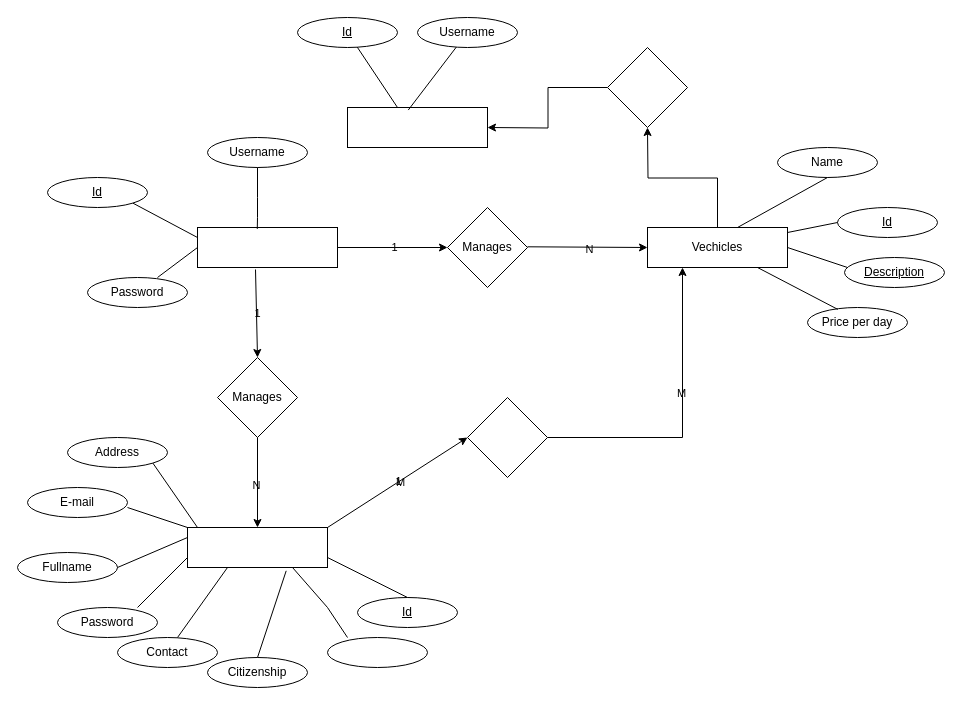
Some shapes in this 962 by 705 pixel diagram are drawn without their labels. The shapes that lost their labels are listed below. From the top down, each one's centre as x and y in pixels, then its label:
At point (647, 87): "Belongs".
At point (417, 127): "Provider".
At point (267, 247): "Admin".
At point (507, 437): "Rent".
At point (257, 547): "Users".
At point (377, 652): "License".
